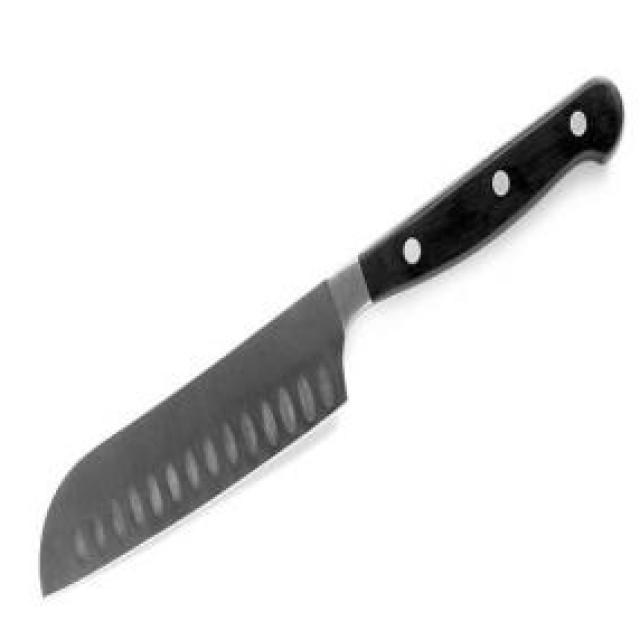knife: (36, 78, 626, 599)
